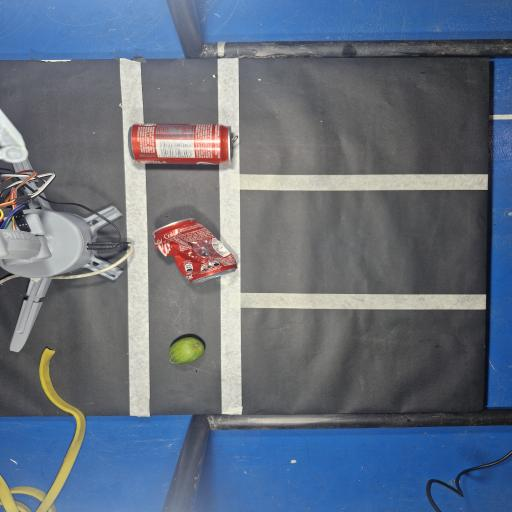higo: (169, 337, 204, 364)
lata: (128, 124, 231, 165)
lata_defectuoso: (154, 219, 237, 282)
